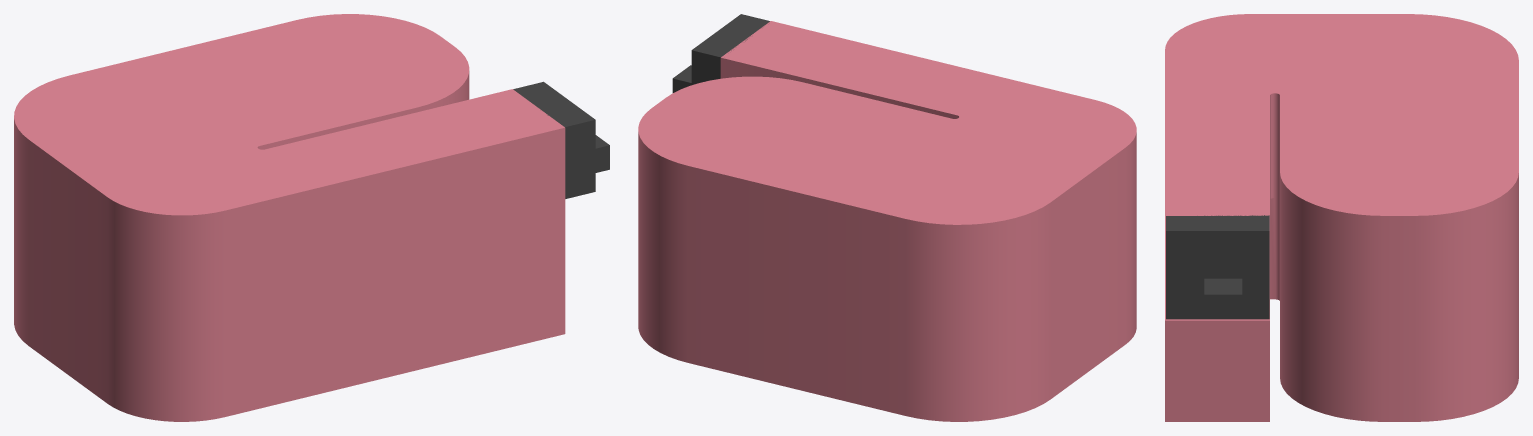
File: MaxLevelRebuild1.fbx
The picture shows the model from 3 angles, left to right: view 1: azimuth 30°, elevation 25°; view 2: azimuth 150°, elevation 25°; view 3: azimuth 270°, elevation 25°; orthographic projection. The views are drawn at different scales.
Visible parts, largest first — view 1: Plane.002, Plane; view 2: Plane.002, Plane; view 3: Plane.002, Plane.
Boxes of the visible parts, x1=… form: Plane.002: x1=14, y1=14, x2=565, y2=421; Plane: x1=513, y1=81, x2=609, y2=198; Plane.002: x1=638, y1=21, x2=1136, y2=421; Plane: x1=672, y1=14, x2=769, y2=92; Plane.002: x1=1165, y1=14, x2=1518, y2=421; Plane: x1=1166, y1=215, x2=1269, y2=319.
Size of the model in its own units: 28721 by 11833 by 18422.
